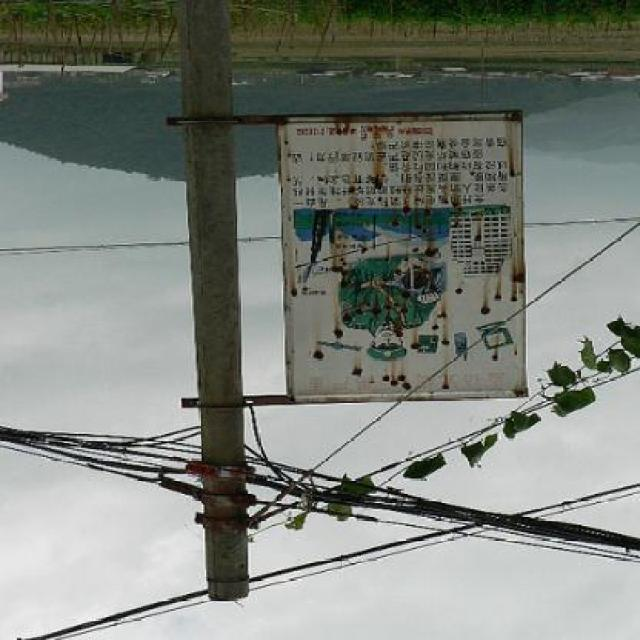pole: (99, 8, 293, 603)
